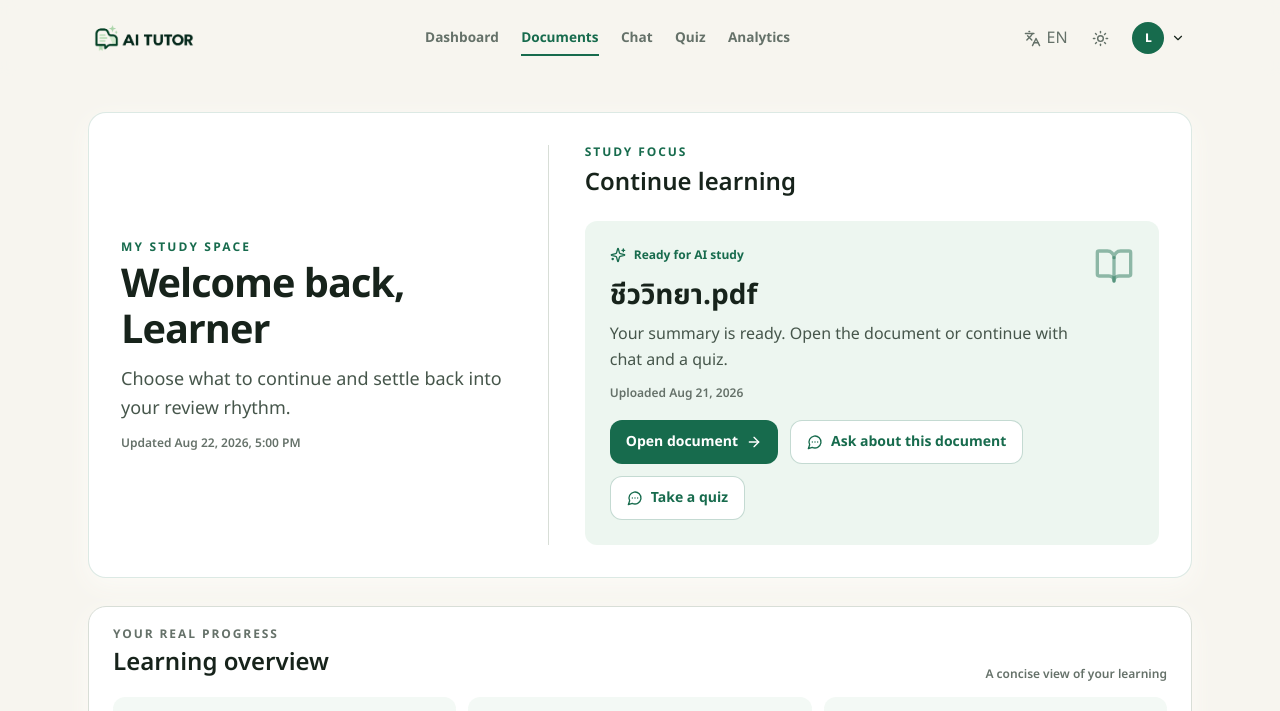
Test: AppShell › localizes populated Dashboard copy, dates, and accessibility text without translating user data
Check: the heading "Welcome back, Learner" is shown, box x1=121 y1=255 x2=404 y2=361
Check: the heading "Continue learning" is shown, box x1=585 y1=165 x2=796 y2=201
Click the button with aria-label "Language: EN": (1046, 38) x1=1015 y1=16 x2=1076 y2=60
(page scrolled)
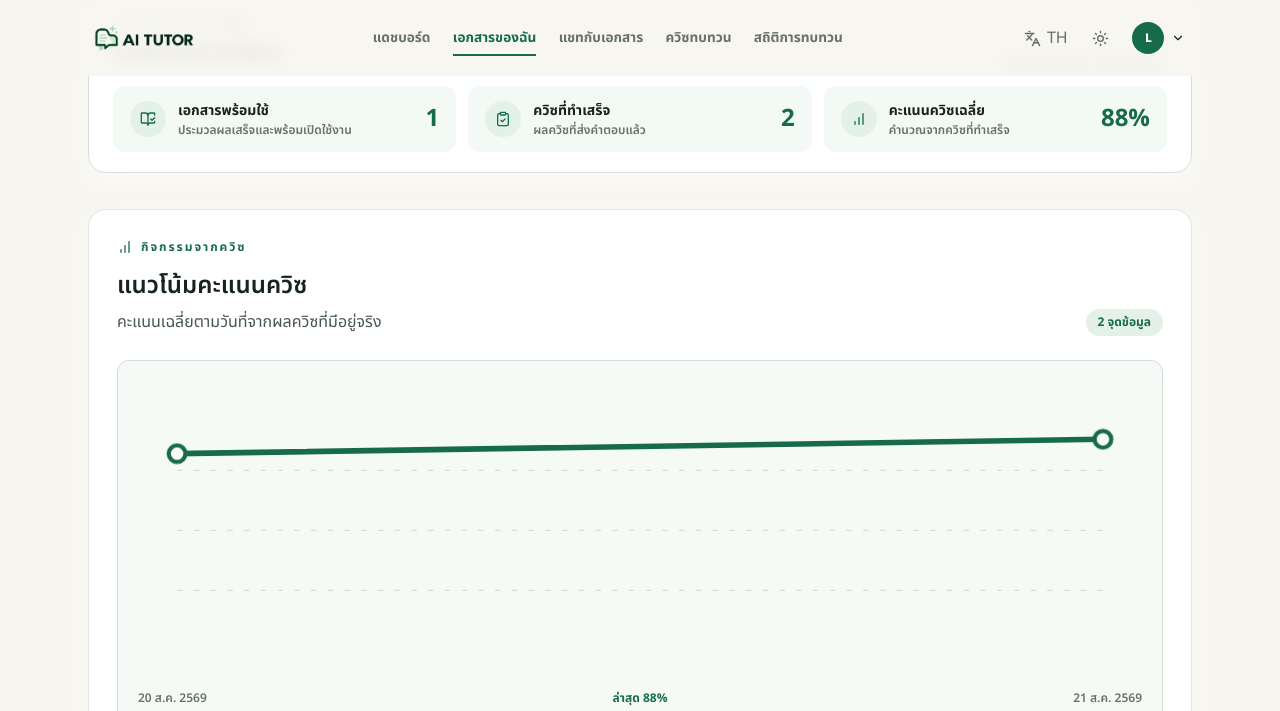
Check: the heading "แนวโน้มคะแนนควิซ" is shown, box x1=117 y1=268 x2=307 y2=304
